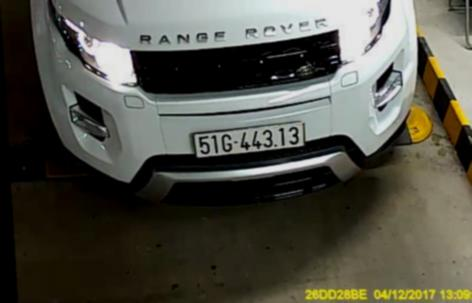License_Plate: (189, 126, 306, 154)
